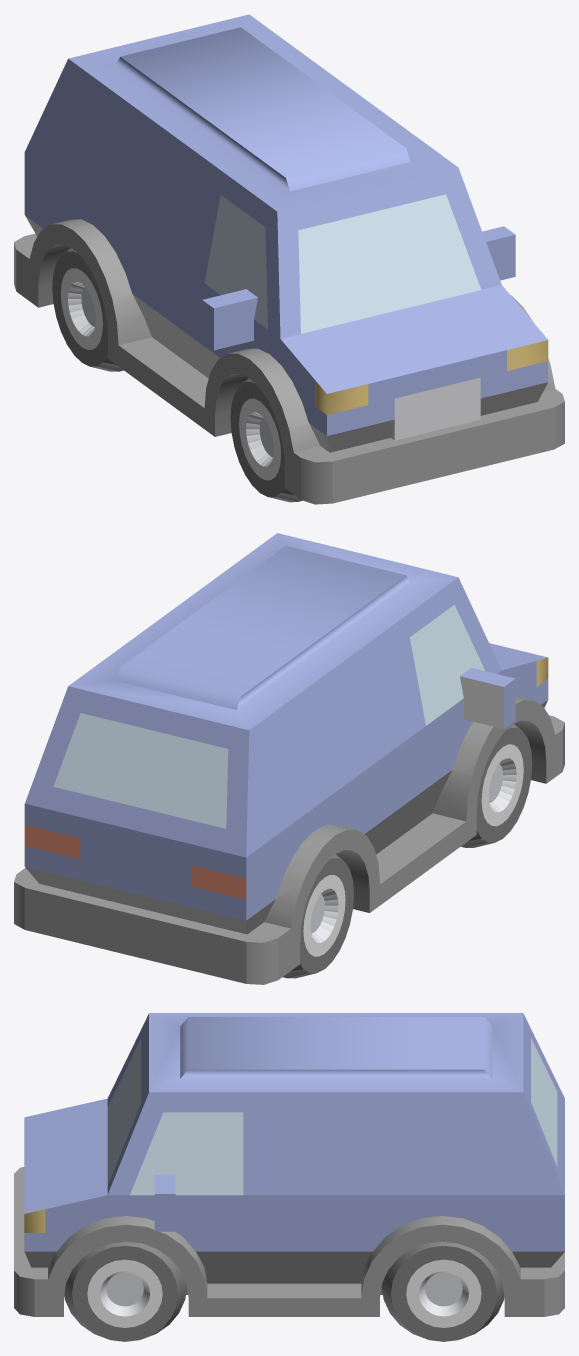
File: car4.fbx
The picture shows the model from 3 angles, top to bottom: view 1: azimuth 30°, elevation 25°; view 2: azimuth 150°, elevation 25°; view 3: azimuth 270°, elevation 25°; orthographic projection. The views are drawn at different scales.
Parts seen in each view (by area): view 1: car.003; view 2: car.003; view 3: car.003.
Part boxes in pixels (bbox=[...]): car.003: bbox=[14, 14, 564, 504]; car.003: bbox=[14, 533, 564, 984]; car.003: bbox=[14, 1013, 564, 1341].
Bounding box in the file's own units: 300 × 270 × 530.
